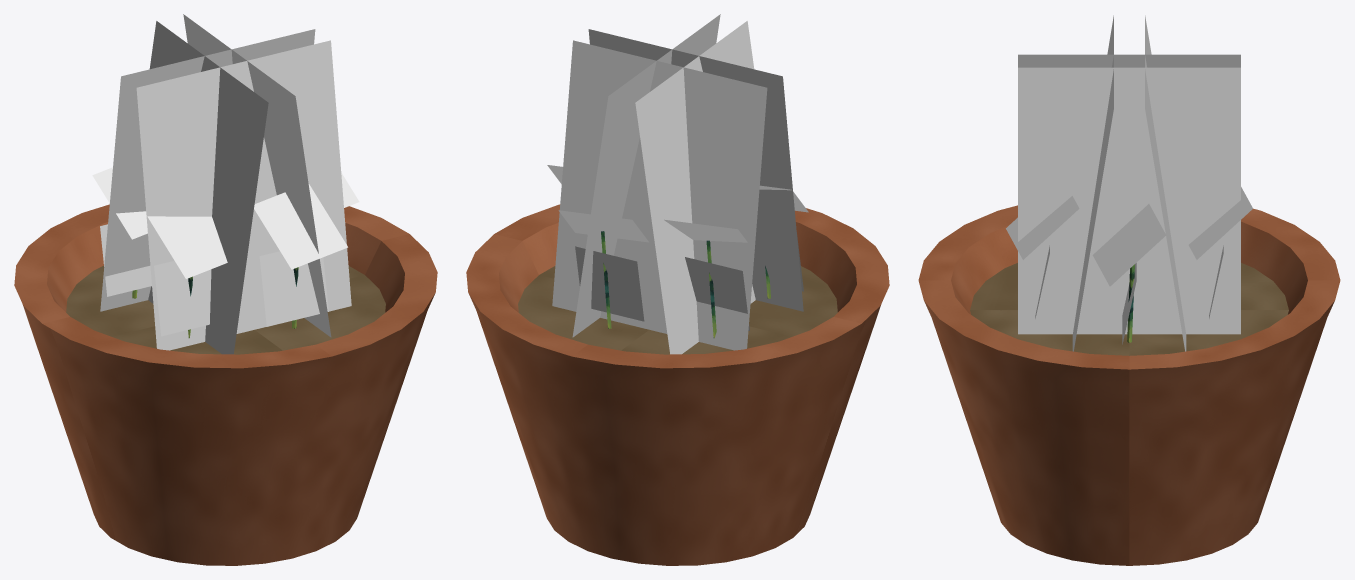
The model's file is Planter.fbx.
3 renders of one model, left to right at view 1: azimuth 30°, elevation 25°; view 2: azimuth 150°, elevation 25°; view 3: azimuth 270°, elevation 25°, orthographic.
Visible parts, largest first — view 1: Planter.001; view 2: Planter.001; view 3: Planter.001.
Boxes of the visible parts, bbox=[...] form: Planter.001: bbox=[14, 14, 437, 565]; Planter.001: bbox=[466, 14, 889, 565]; Planter.001: bbox=[918, 15, 1340, 565].
Bounding box in the file's own units: 125 × 147 × 125.
Materials: 6 (3 with a texture image).
